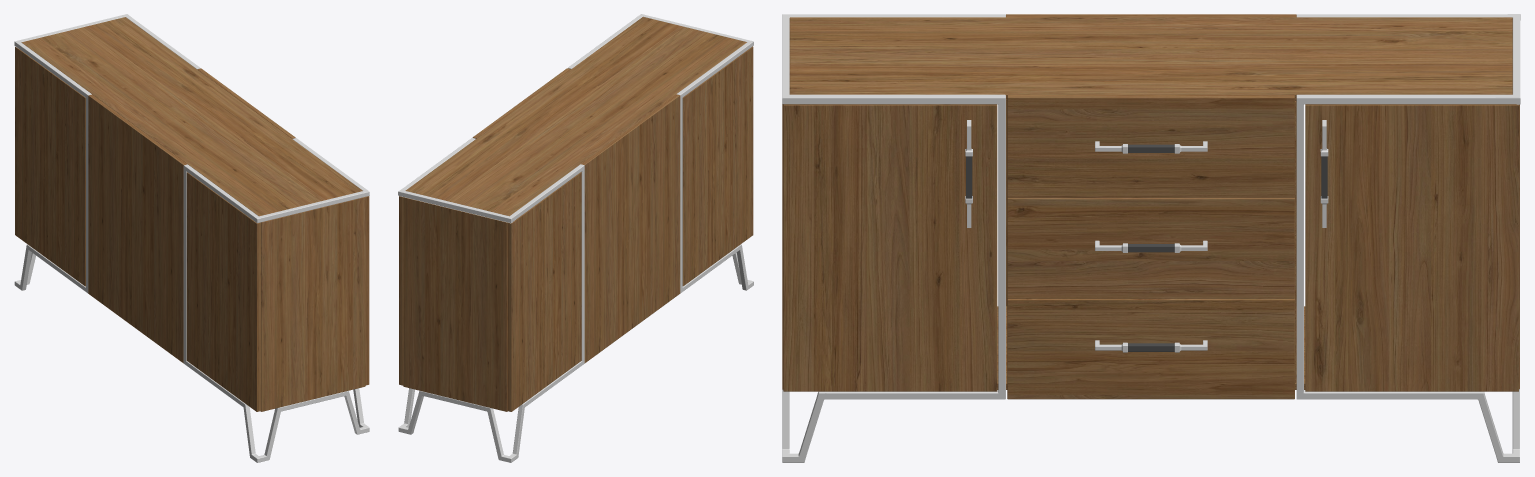
3 views of the same model, side by side, from view 1: azimuth 30°, elevation 25°; view 2: azimuth 150°, elevation 25°; view 3: azimuth 270°, elevation 25° (orthographic). The views are drawn at different scales.
Parts seen in each view (by area): view 1: pasted__pasted__pasted__polySurface232, pasted__pasted__pasted__polySurface230, pasted__pasted__pasted__polySurface229, pasted__pasted__pasted__polySurface233, pasted__pasted__pasted__polySurface222, pasted__pasted__pasted__polySurface234, pasted__pasted__pasted__polySurface231, pasted__pasted__pasted__polySurface223, pasted__pasted__pasted__polySurface226; view 2: pasted__pasted__pasted__polySurface232, pasted__pasted__pasted__polySurface224, pasted__pasted__pasted__polySurface229, pasted__pasted__pasted__polySurface222, pasted__pasted__pasted__polySurface233, pasted__pasted__pasted__polySurface231, pasted__pasted__pasted__polySurface234, pasted__pasted__pasted__polySurface221, pasted__pasted__pasted__polySurface226; view 3: pasted__pasted__pasted__polySurface223, pasted__pasted__pasted__polySurface221, pasted__pasted__pasted__polySurface232, pasted__pasted__pasted__polySurface226, pasted__pasted__pasted__polySurface225, pasted__pasted__pasted__polySurface227, pasted__pasted__pasted__polySurface231, pasted__pasted__pasted__polySurface234, pasted__pasted__pasted__polySurface229, pasted__pasted__polySurface11, pasted__pasted__polySurface9, pasted__pasted__polySurface10.
Boxes of the visible parts, x1=… form: pasted__pasted__pasted__polySurface232: x1=21, y1=17, x2=362, y2=216; pasted__pasted__pasted__polySurface230: x1=260, y1=197, x2=365, y2=411; pasted__pasted__pasted__polySurface229: x1=88, y1=94, x2=187, y2=363; pasted__pasted__pasted__polySurface233: x1=186, y1=172, x2=260, y2=411; pasted__pasted__pasted__polySurface222: x1=15, y1=47, x2=85, y2=286; pasted__pasted__pasted__polySurface234: x1=183, y1=138, x2=369, y2=462; pasted__pasted__pasted__polySurface231: x1=14, y1=14, x2=200, y2=293; pasted__pasted__pasted__polySurface223: x1=365, y1=196, x2=369, y2=385; pasted__pasted__pasted__polySurface226: x1=197, y1=68, x2=295, y2=138; pasted__pasted__pasted__polySurface232: x1=405, y1=17, x2=746, y2=216; pasted__pasted__pasted__polySurface224: x1=403, y1=197, x2=507, y2=411; pasted__pasted__pasted__polySurface229: x1=581, y1=94, x2=680, y2=363; pasted__pasted__pasted__polySurface222: x1=507, y1=172, x2=581, y2=411; pasted__pasted__pasted__polySurface233: x1=682, y1=46, x2=753, y2=286; pasted__pasted__pasted__polySurface231: x1=398, y1=138, x2=584, y2=462; pasted__pasted__pasted__polySurface234: x1=568, y1=14, x2=753, y2=293; pasted__pasted__pasted__polySurface221: x1=399, y1=196, x2=403, y2=385; pasted__pasted__pasted__polySurface226: x1=472, y1=68, x2=570, y2=138; pasted__pasted__pasted__polySurface223: x1=783, y1=104, x2=997, y2=391; pasted__pasted__pasted__polySurface221: x1=1305, y1=104, x2=1518, y2=391; pasted__pasted__pasted__polySurface232: x1=789, y1=17, x2=1512, y2=100; pasted__pasted__pasted__polySurface226: x1=1007, y1=94, x2=1294, y2=197; pasted__pasted__pasted__polySurface225: x1=1007, y1=298, x2=1294, y2=399; pasted__pasted__pasted__polySurface227: x1=1007, y1=197, x2=1294, y2=298; pasted__pasted__pasted__polySurface231: x1=1296, y1=14, x2=1520, y2=462; pasted__pasted__pasted__polySurface234: x1=782, y1=14, x2=1005, y2=462; pasted__pasted__pasted__polySurface229: x1=1006, y1=14, x2=1296, y2=306; pasted__pasted__polySurface11: x1=1095, y1=340, x2=1207, y2=352; pasted__pasted__polySurface9: x1=1095, y1=141, x2=1207, y2=153; pasted__pasted__polySurface10: x1=1095, y1=240, x2=1207, y2=252.
Bounding box in the file's own units: 0.4356 × 0.83 × 1.5.
Materials: 6 (3 with a texture image).
